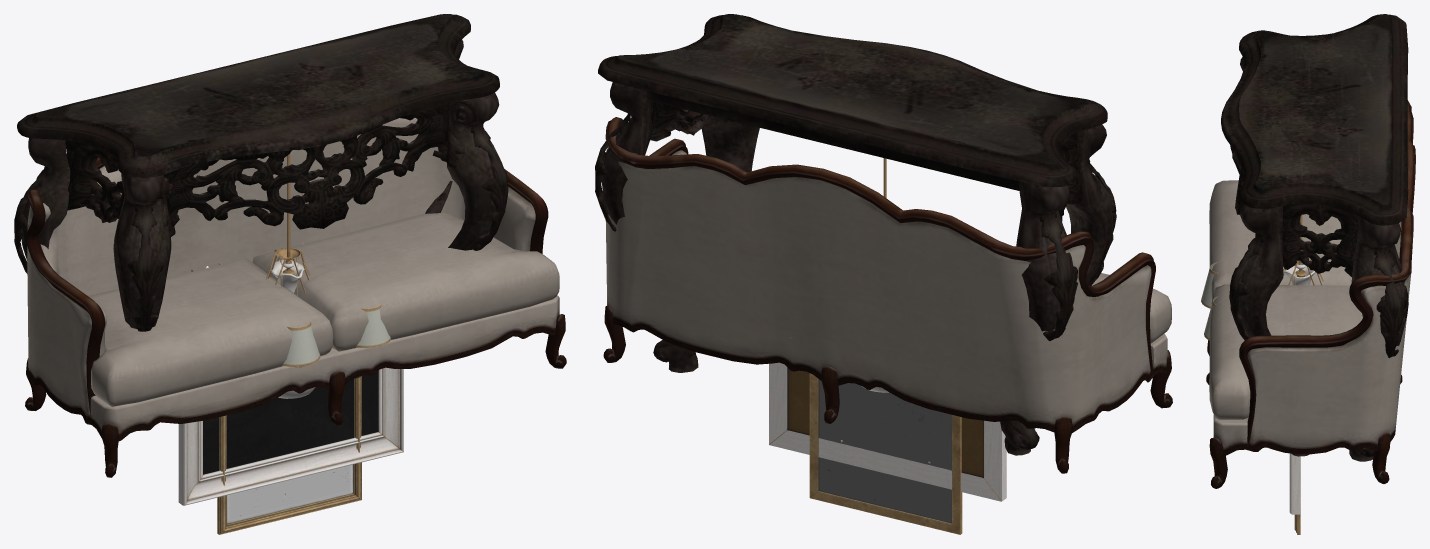
File: raum-salon.glb
3 renders of one model, left to right at view 1: azimuth 30°, elevation 25°; view 2: azimuth 150°, elevation 25°; view 3: azimuth 270°, elevation 25°, orthographic. The views are drawn at different scales.
Parts seen in each view (by area): view 1: Sofa_01, ClassicConsole_01, hanging_picture_frame_02, ornate_mirror_01, Chandelier_02, ceramic_vase_01; view 2: Sofa_01, ClassicConsole_01, ornate_mirror_01, hanging_picture_frame_02; view 3: ClassicConsole_01, Sofa_01, Chandelier_02, hanging_picture_frame_02, ceramic_vase_01.
Part boxes in pixels (x1=…): Sofa_01: x1=25, y1=118, x2=566, y2=477; ClassicConsole_01: x1=14, y1=14, x2=508, y2=430; hanging_picture_frame_02: x1=178, y1=367, x2=403, y2=505; ornate_mirror_01: x1=217, y1=376, x2=361, y2=534; Chandelier_02: x1=191, y1=153, x2=391, y2=367; ceramic_vase_01: x1=271, y1=260, x2=315, y2=398; Sofa_01: x1=603, y1=117, x2=1172, y2=473; ClassicConsole_01: x1=595, y1=14, x2=1116, y2=455; ornate_mirror_01: x1=809, y1=373, x2=962, y2=534; hanging_picture_frame_02: x1=769, y1=362, x2=1006, y2=501; ClassicConsole_01: x1=1221, y1=14, x2=1408, y2=461; Sofa_01: x1=1206, y1=100, x2=1415, y2=488; Chandelier_02: x1=1201, y1=215, x2=1323, y2=340; hanging_picture_frame_02: x1=1289, y1=453, x2=1300, y2=514; ceramic_vase_01: x1=1283, y1=266, x2=1315, y2=285.
Size of the model in its own units: 1.57 by 1.36 by 0.6745.
10 materials, 9 textured.
